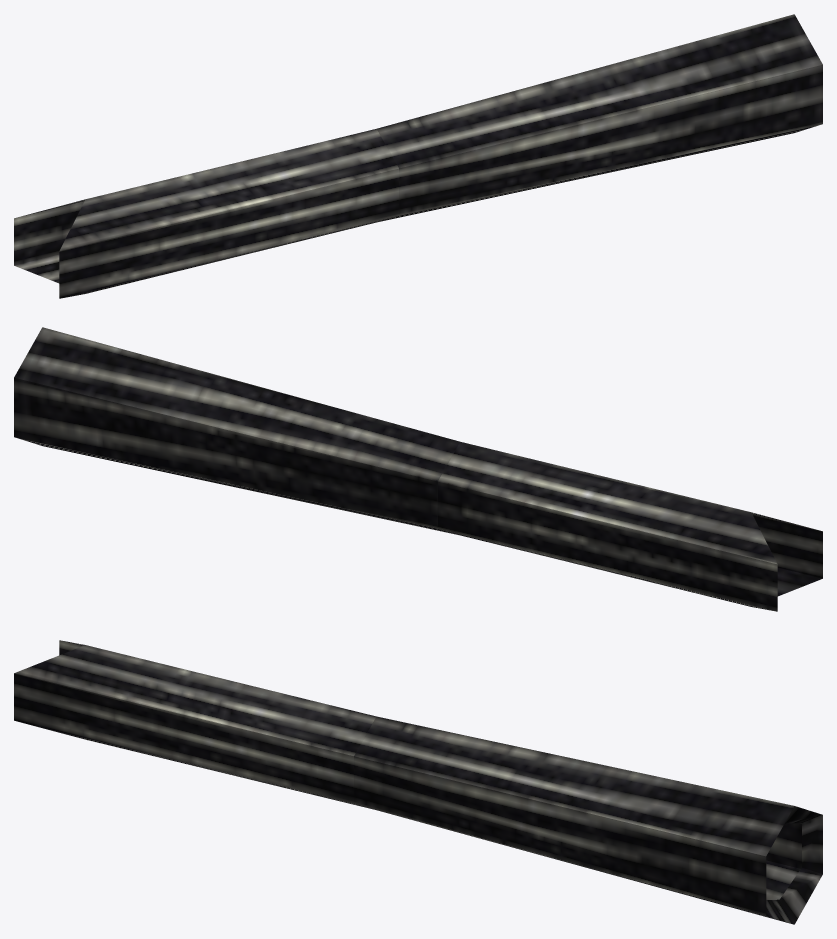
The model's file is Jack_brazo_izq.obj.
3 views of the same model, one above another, from view 1: azimuth 30°, elevation 25°; view 2: azimuth 150°, elevation 25°; view 3: azimuth 330°, elevation 25° (orthographic).
Parts seen in each view (by area): view 1: rdmobj01.001; view 2: rdmobj01.001; view 3: rdmobj01.001.
Part boxes in pixels (x1,y1,x2,y2): rdmobj01.001: (14, 14, 822, 298); rdmobj01.001: (14, 327, 822, 611); rdmobj01.001: (14, 640, 822, 924).
Size of the model in its own units: 0.4287 by 0.0643 by 0.0557.
Materials: 1 (1 with a texture image).
